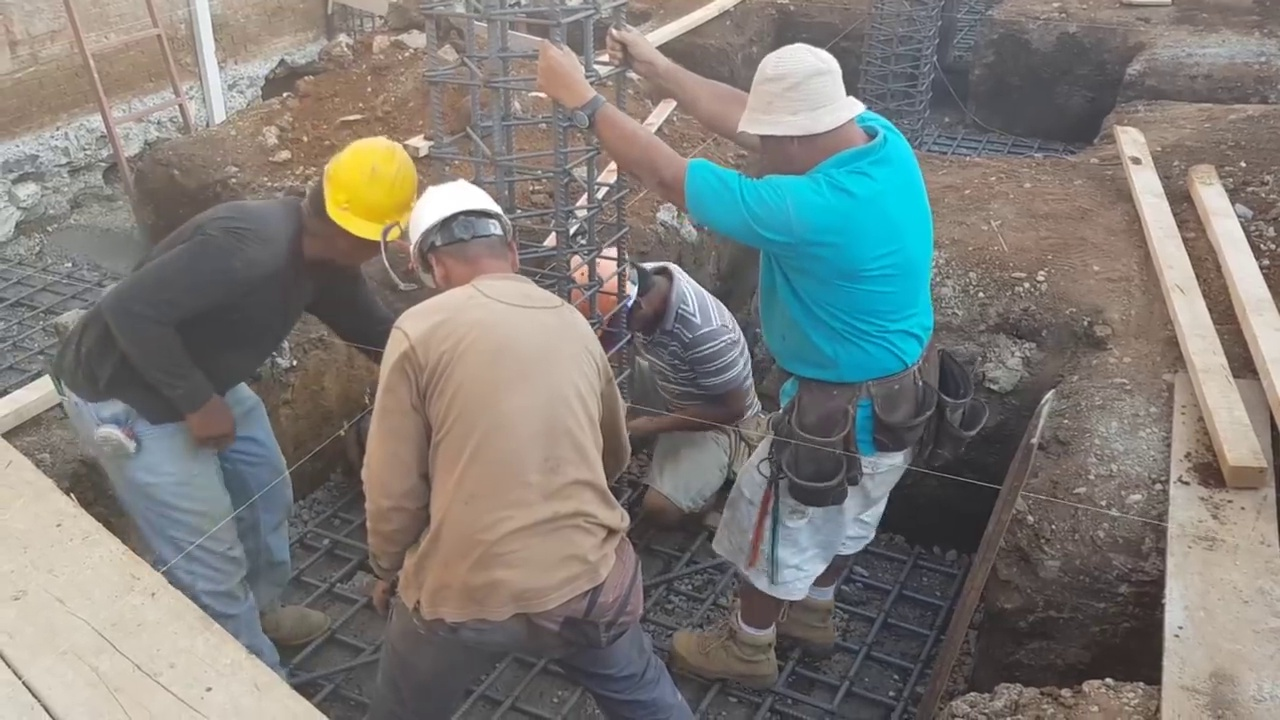helmet: (321, 137, 415, 239), (405, 179, 504, 265), (571, 256, 641, 324)
helmet-off: (733, 43, 873, 175)
helmet-on: (299, 136, 416, 276), (405, 180, 523, 295), (564, 236, 671, 325)
person: (567, 11, 944, 636), (348, 151, 657, 706), (72, 134, 382, 666), (571, 251, 756, 532)
